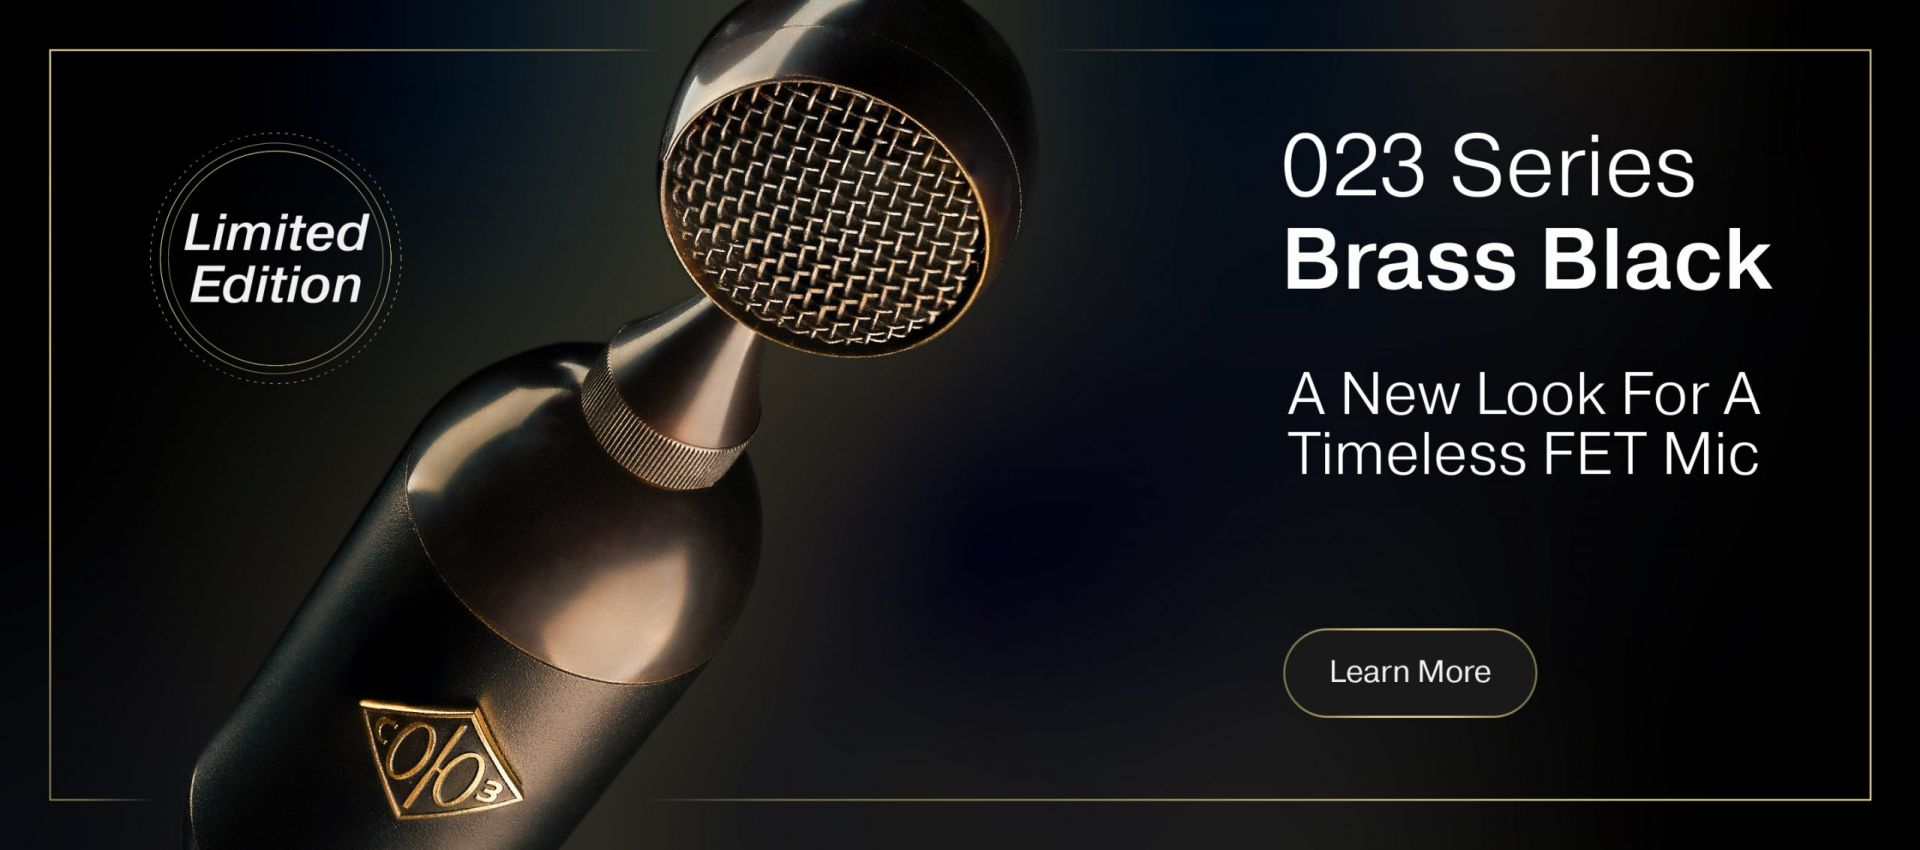microphone: (163, 13, 1053, 850)
